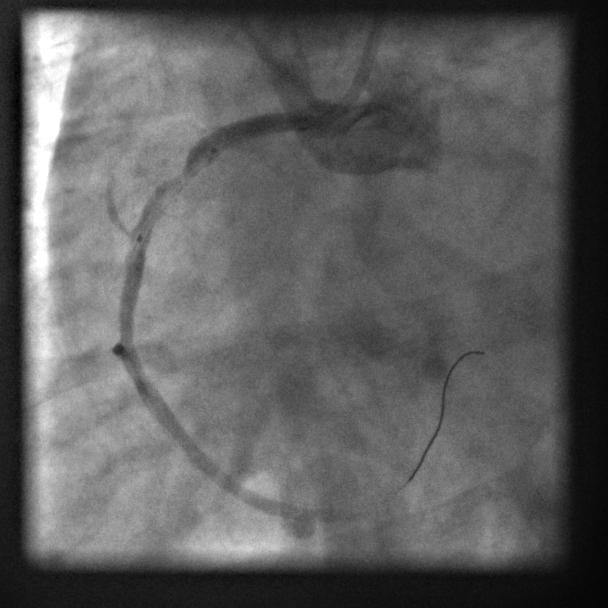Stenosis: (165, 147, 199, 199)
